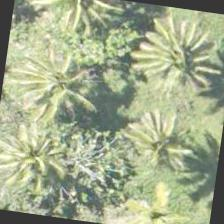Kelapa_Sawit: (9, 40, 111, 142), (110, 95, 211, 197), (133, 8, 223, 111), (0, 109, 84, 211), (99, 169, 197, 223), (28, 0, 125, 47)
